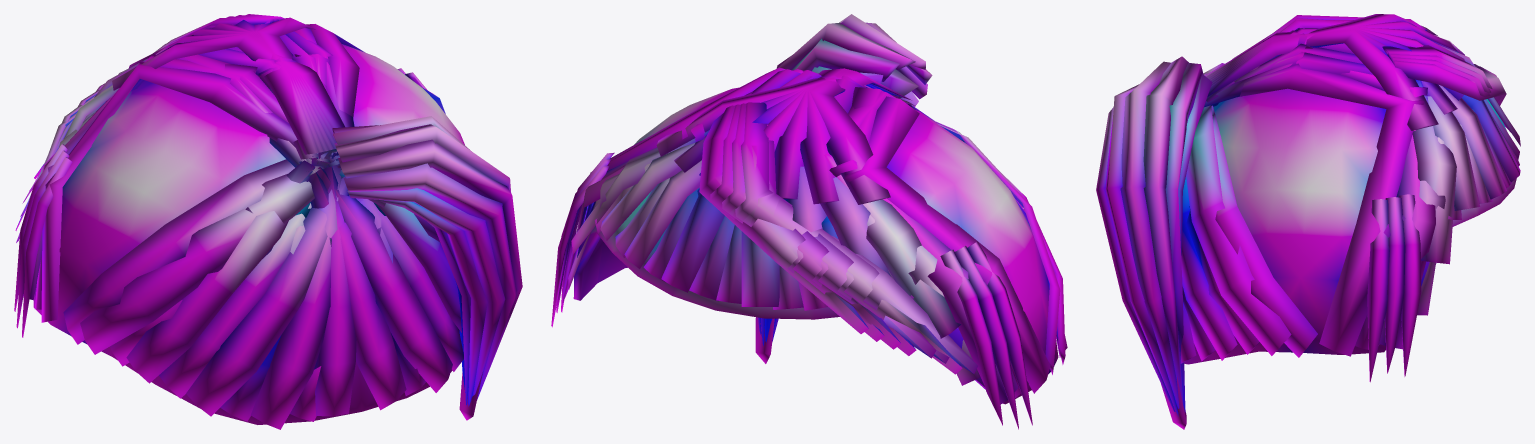
The model's file is ponytail_low.glb.
The picture shows the model from 3 angles, left to right: view 1: azimuth 30°, elevation 25°; view 2: azimuth 150°, elevation 25°; view 3: azimuth 270°, elevation 25°; orthographic projection. The views are drawn at different scales.
Parts seen in each view (by area): view 1: ponytail; view 2: ponytail; view 3: ponytail.
Part boxes in pixels (box(x1,y1,x2,y2)): ponytail: box(14, 14, 522, 429); ponytail: box(551, 14, 1067, 429); ponytail: box(1096, 14, 1520, 429).
Bounding box in the file's own units: 0.9357 × 0.7106 × 0.7988.
